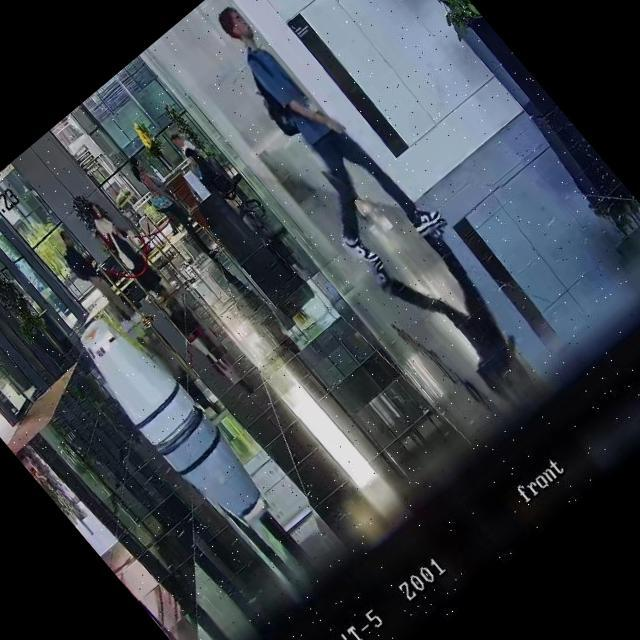person: (179, 0, 446, 278), (124, 150, 224, 264), (76, 196, 170, 300), (46, 226, 138, 328), (178, 142, 231, 200), (165, 126, 202, 165)
